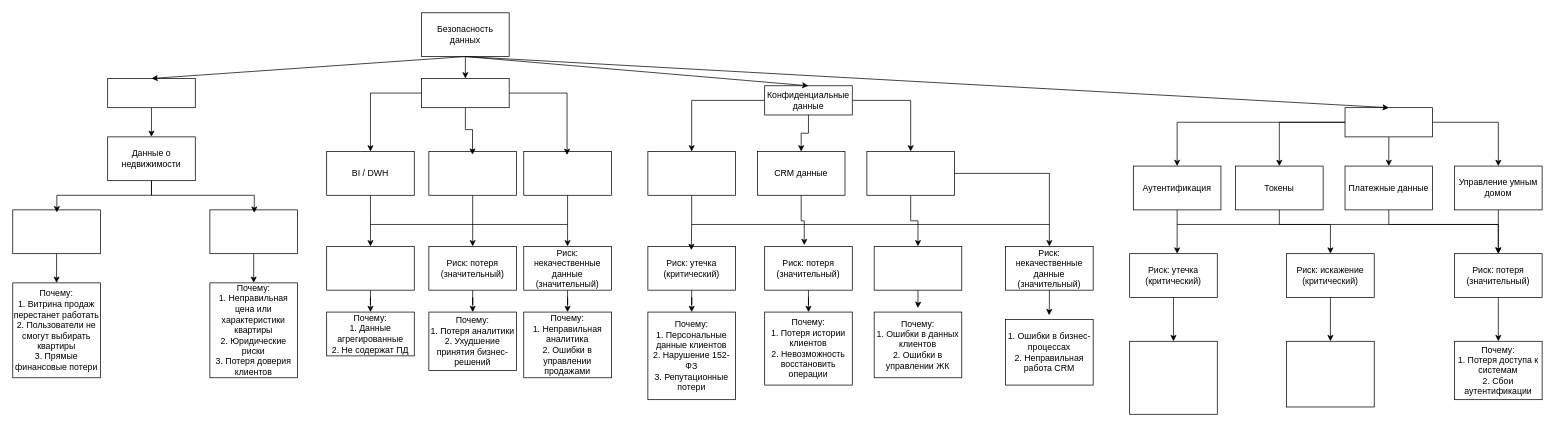
This 1555x427 diagram has some shape labels left out. The centre of each missing label's shape, as x and y in pixels:
аналитика: (567,173)
Внутренние данные: (465,93)
Данные сделок: (910,173)
Логи: (472,173)
ПД клиентов: (691,173)
Почему: 1. Доступ к аккаунтам 2. Управление устройствами 3. Мошенничество: (1173,377)
Почему: 1. Изменение платёжных данных 2. Изменение параметров умного дома: (1330,374)
Публичные данные: (151,93)
Риск: искажение (значительный): (917,268)
Риск: искажение данных (значительный): (253,231)
Риск: потеря данных (значительный): (56,231)
Риск: утечка (незначительный): (370,268)
Секретные данные: (1388,122)
